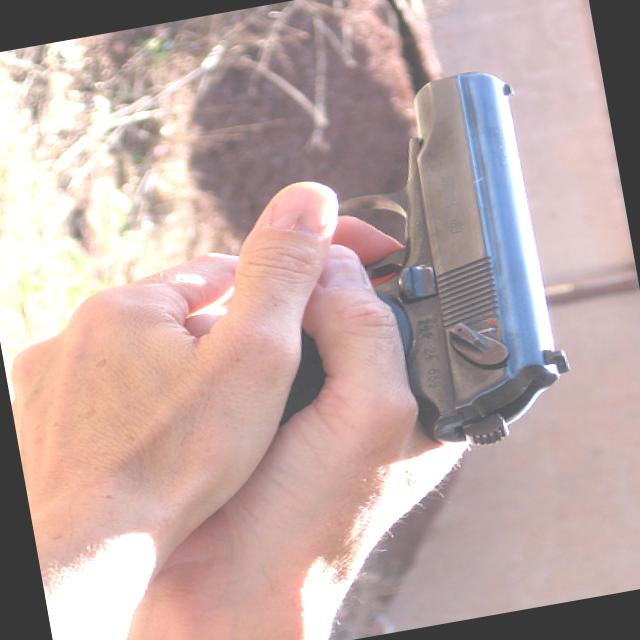handgun: (221, 62, 578, 480)
